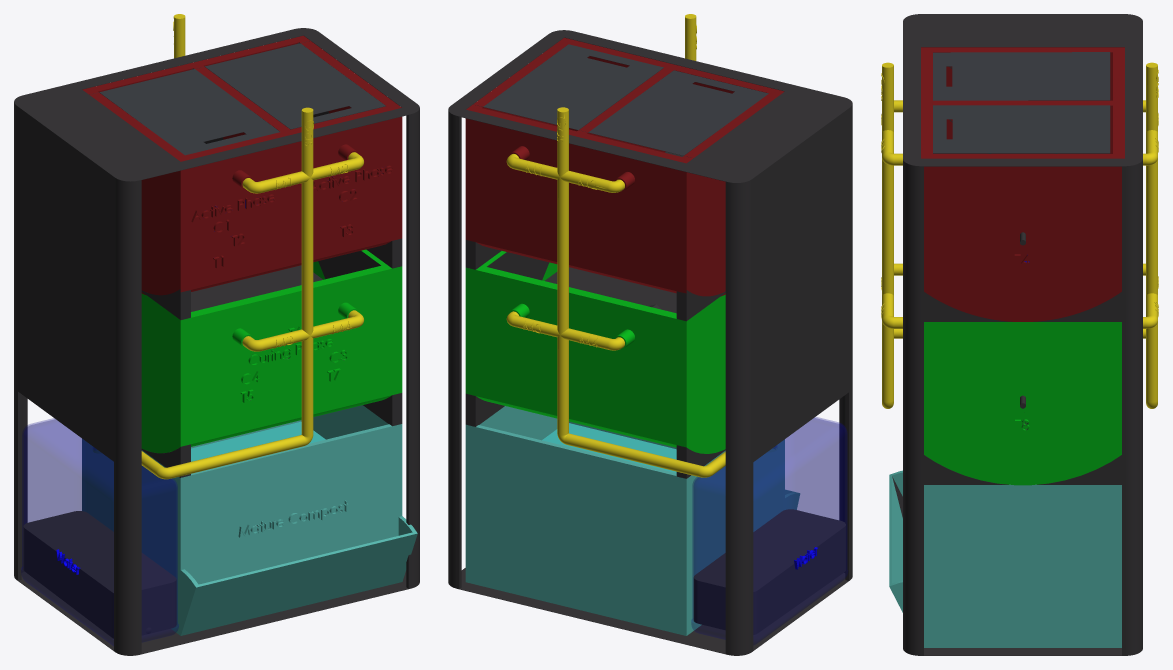
3 views of the same model, side by side, from view 1: azimuth 30°, elevation 25°; view 2: azimuth 150°, elevation 25°; view 3: azimuth 270°, elevation 25° (orthographic). The views are drawn at different scales.
Visible parts, largest first — view 1: Part3-1, Part5-1, Part1-1, Part2-1, bottle-1, wasteeee-1, pipe line-1, lid-2, lid-1, waste 2-1, waste 3-1, connector-4 (+3 smaller); view 2: Part3-1, Part5-1, Part1-1, Part2-1, bottle-1, wasteeee-1, pipe line-1, lid-2, lid-1, waste 2-1, waste 3-1, connector-4 (+3 smaller); view 3: Part3-1, Part1-1, Part5-1, Part2-1, pipe line-1, lid-1, lid-2, connector-3, connector-2.
Part boxes in pixels (x1,y1,x2,y2): Part3-1: (14, 28, 419, 655); Part5-1: (82, 405, 417, 635); Part1-1: (82, 35, 402, 295); Part2-1: (141, 249, 402, 453); bottle-1: (21, 418, 178, 645); wasteeee-1: (23, 511, 176, 638); pipe line-1: (141, 14, 363, 479); lid-2: (99, 69, 279, 155); lid-1: (205, 43, 385, 129); waste 2-1: (191, 265, 322, 311); waste 3-1: (191, 421, 325, 461); connector-4: (141, 289, 190, 319); Part3-1: (448, 30, 852, 655); Part5-1: (465, 406, 799, 635); Part1-1: (465, 37, 784, 296); Part2-1: (465, 251, 725, 453); bottle-1: (691, 417, 847, 644); wasteeee-1: (693, 509, 845, 634); pipe line-1: (506, 14, 725, 477); lid-2: (588, 70, 768, 155); lid-1: (483, 44, 663, 130); waste 2-1: (545, 267, 676, 313); waste 3-1: (542, 423, 676, 472); connector-4: (676, 290, 725, 321); Part3-1: (903, 14, 1142, 655); Part1-1: (921, 47, 1124, 321); Part5-1: (889, 470, 1121, 647); Part2-1: (924, 322, 1121, 485); pipe line-1: (881, 62, 1158, 408); lid-1: (933, 105, 1110, 153); lid-2: (933, 52, 1110, 100); connector-3: (924, 292, 1121, 321); connector-2: (924, 455, 1121, 484).
Bounding box in the file's own units: 0.605 × 0.969 × 0.462.
